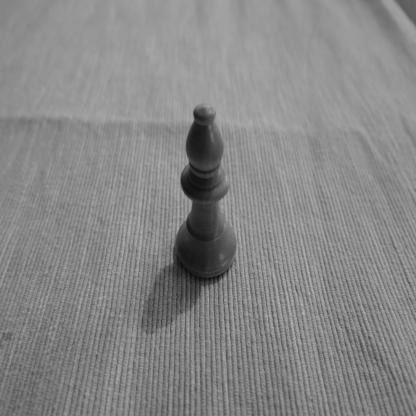white-bishop: (175, 102, 237, 281)
